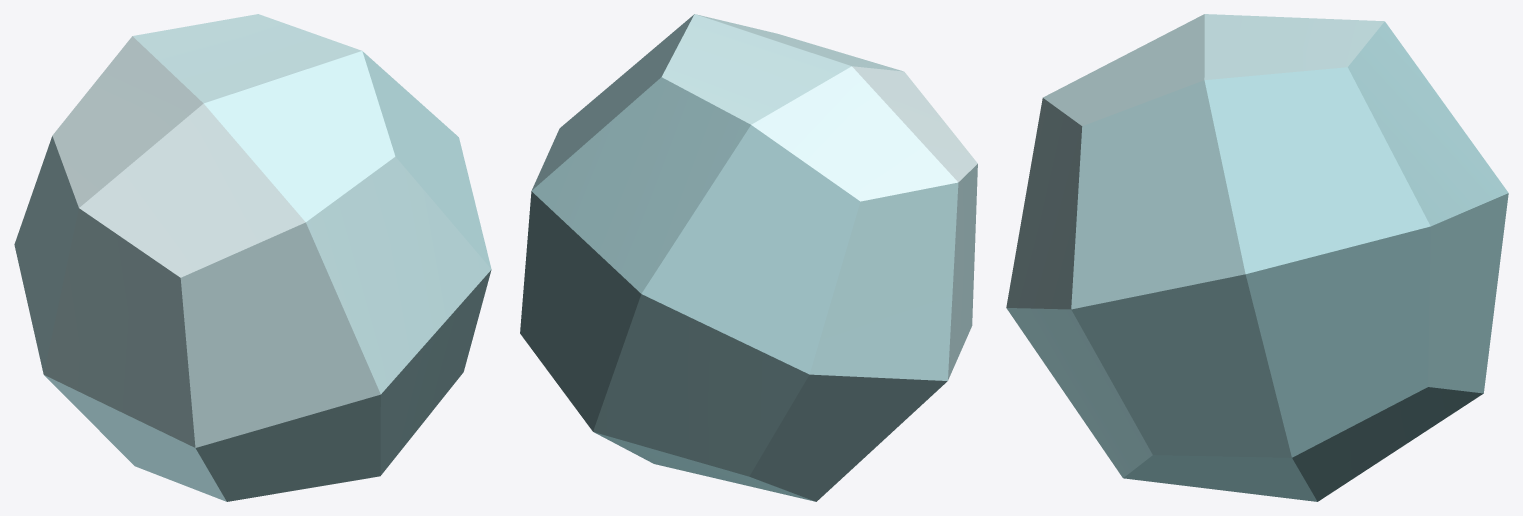
Rendered from Snowball.FBX.
3 views of the same model, side by side, from view 1: azimuth 30°, elevation 25°; view 2: azimuth 150°, elevation 25°; view 3: azimuth 270°, elevation 25° (orthographic). The views are drawn at different scales.
Visible parts, largest first — view 1: Object001; view 2: Object001; view 3: Object001.
Part boxes in pixels (box(x1,y1,x2,y2)): Object001: box(14, 14, 491, 501); Object001: box(520, 14, 977, 501); Object001: box(1006, 14, 1508, 501).
Size of the model in its own units: 29.42 by 28.63 by 30.41.
